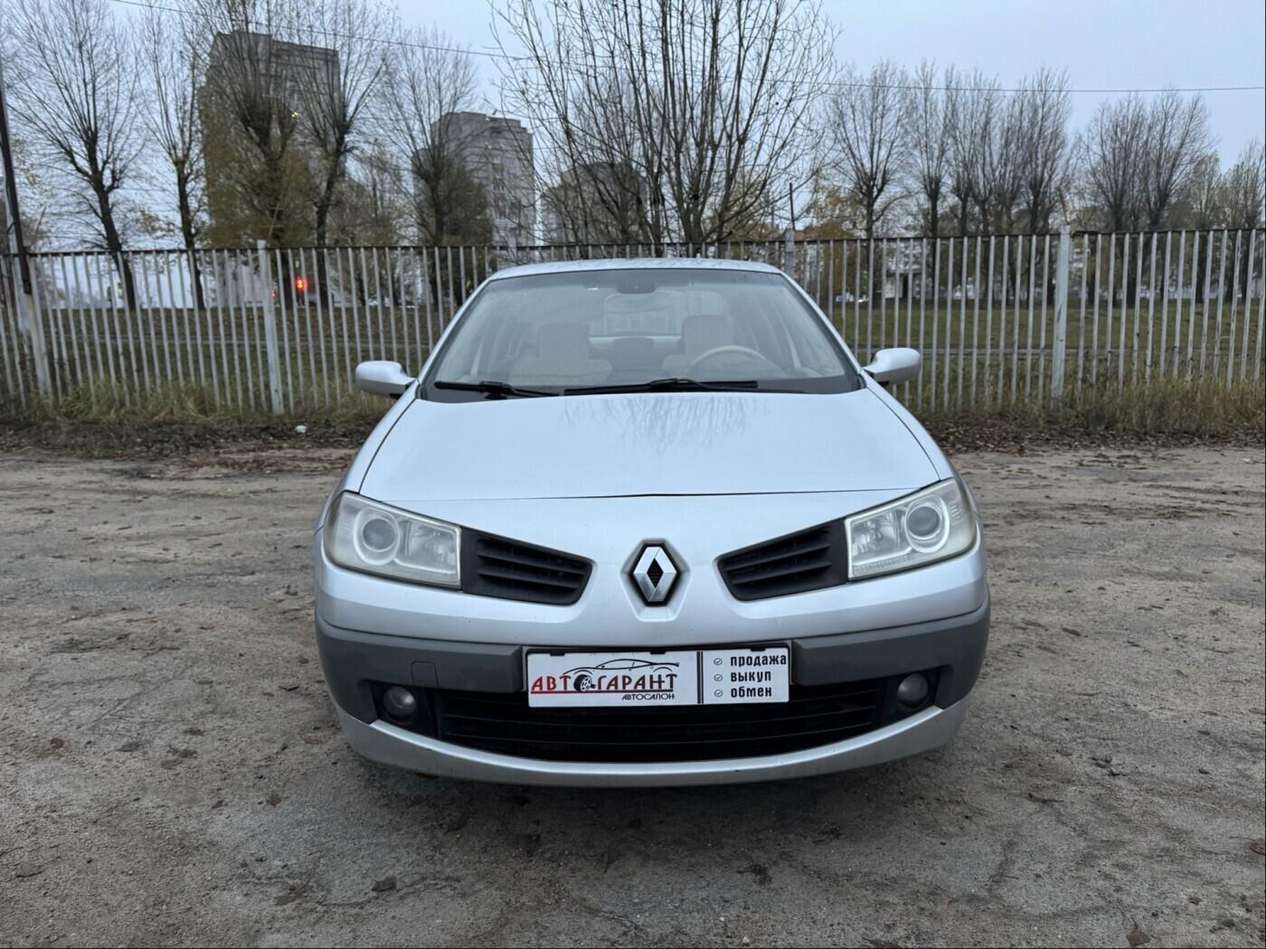Megane_2005-2009: (304, 250, 995, 785)
